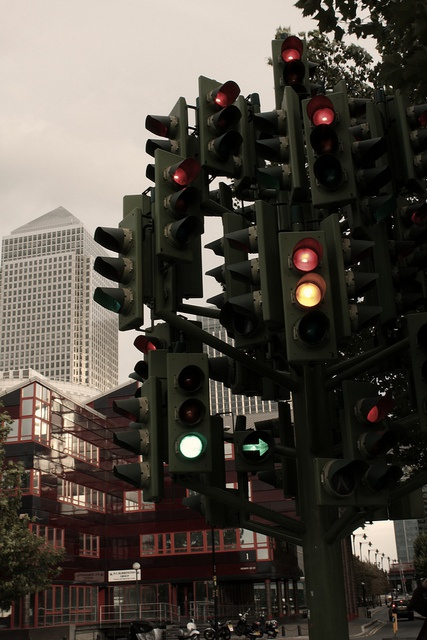non-vehicle: (233, 607, 262, 639), (251, 613, 279, 638), (202, 618, 233, 639), (174, 617, 200, 639)
